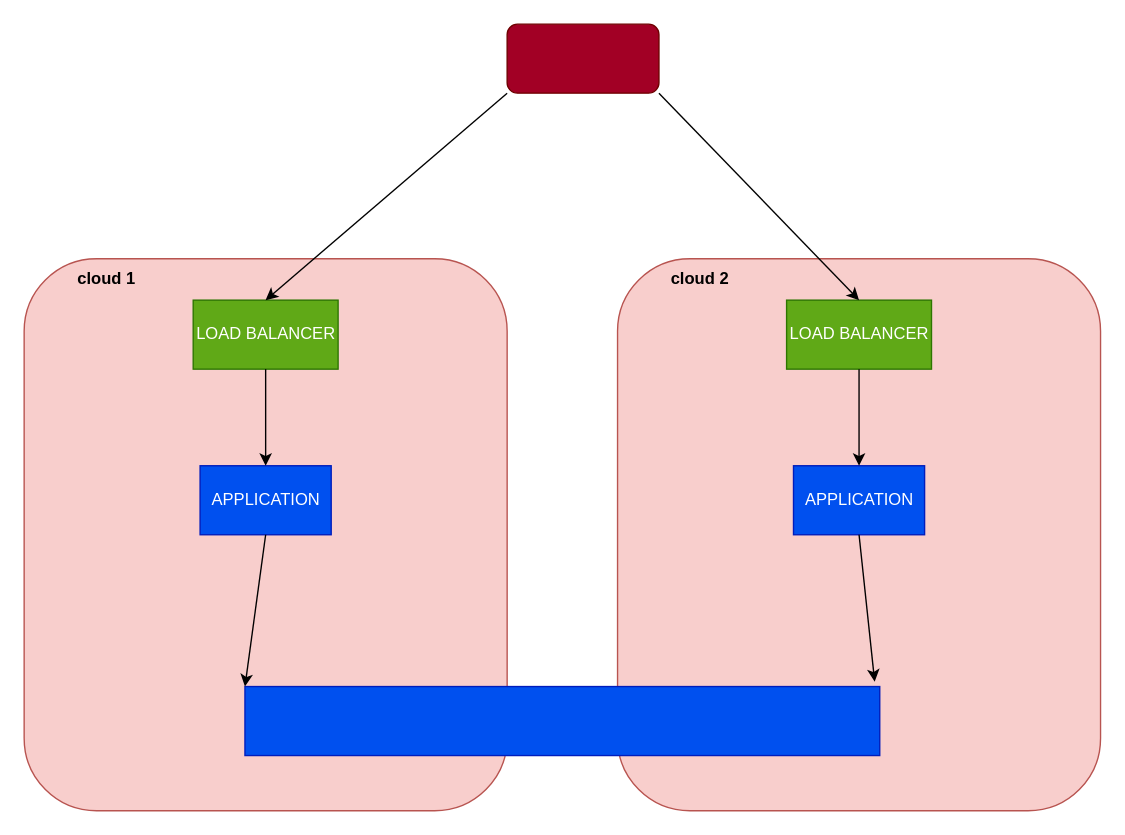
Image size: 1125x835. Some labels were removed from this diagram. Here are the shapes that lost their labels. From the top down, the box of each, then its label:
(506, 23, 659, 93): GSLB LOAD BALANCER
(244, 685, 880, 756): DISTRIBUTED DBMS
